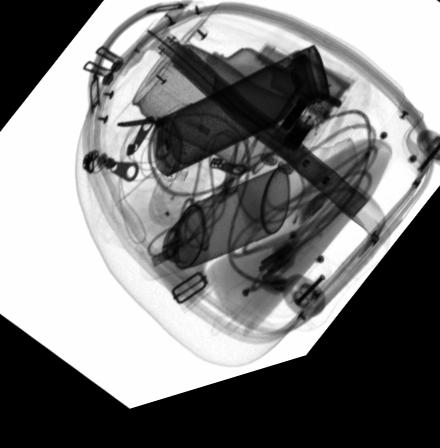Sprayer: (130, 183, 290, 290)
